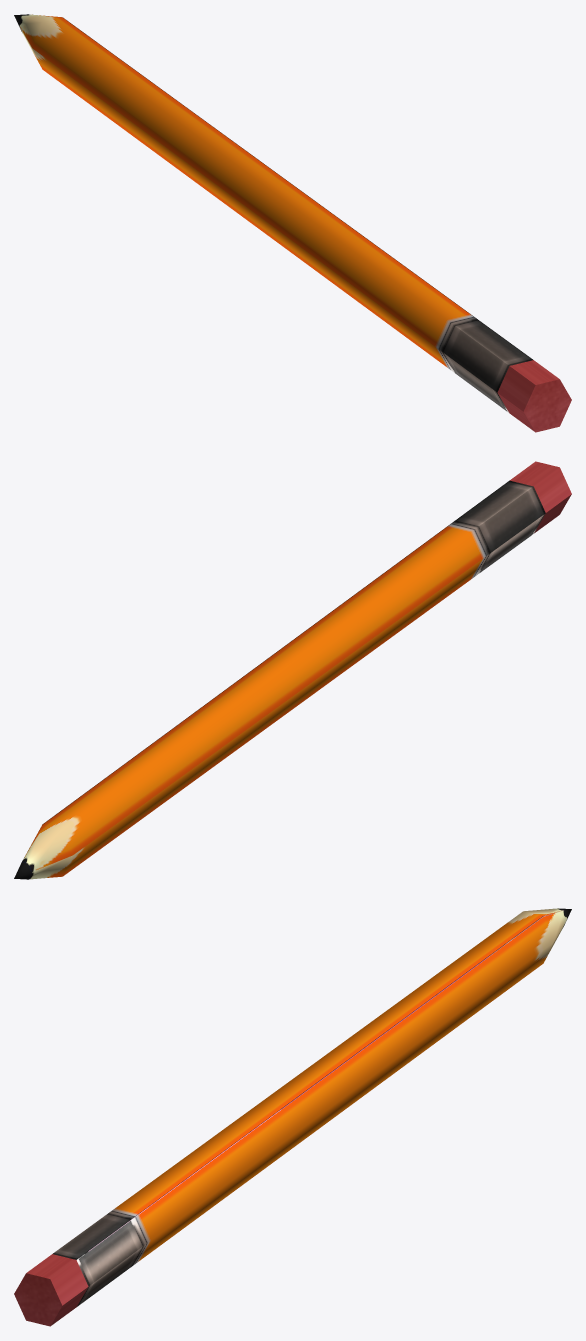
File: Pencil.FBX
3 views of the same model, one above another, from view 1: azimuth 30°, elevation 25°; view 2: azimuth 150°, elevation 25°; view 3: azimuth 330°, elevation 25° (orthographic).
Visible parts, largest first — view 1: Pencil; view 2: Pencil; view 3: Pencil.
Part boxes in pixels (x1,y1,x2,y2): Pencil: (14,14,571,432); Pencil: (14,461,571,879); Pencil: (14,908,571,1326).
Size of the model in its own units: 3.35 by 3.13 by 63.88.
